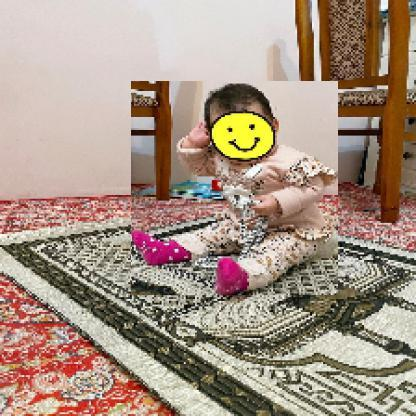child: (132, 82, 340, 297)
